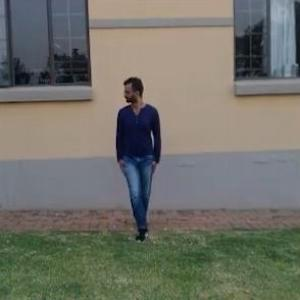follow: (114, 74, 163, 241)
